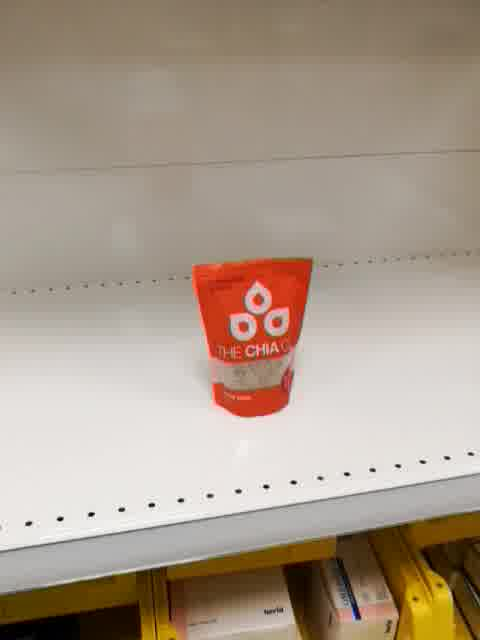whitechia: (191, 256, 317, 419)
